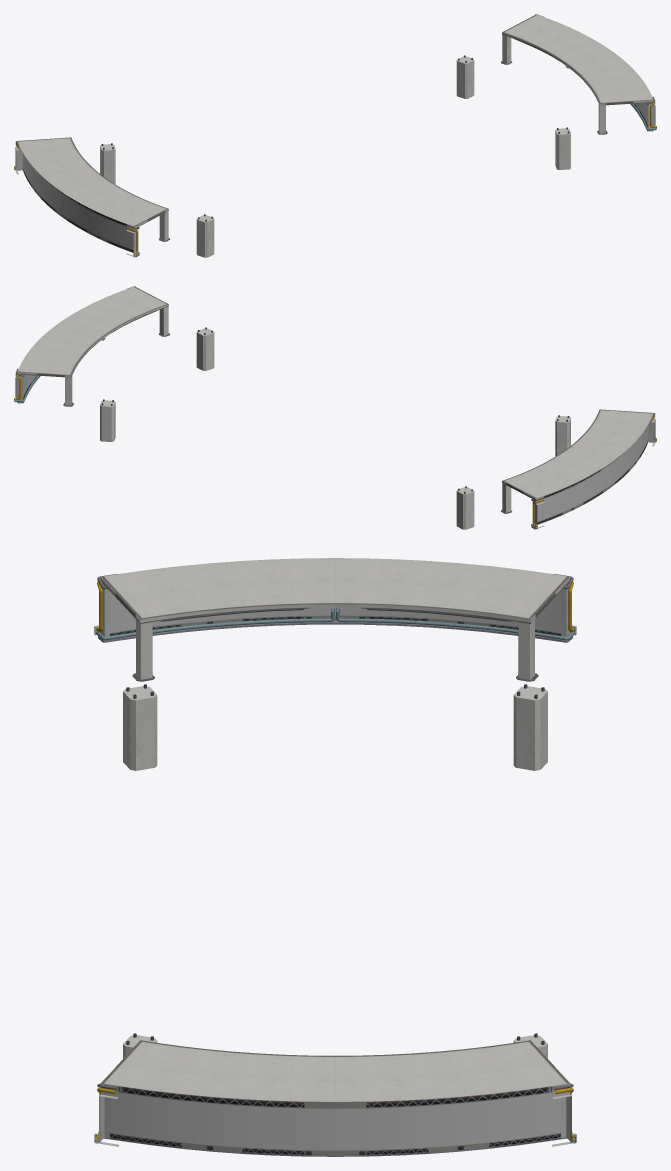
Rendered from GardenUpperLevel.dae.
3 views of the same model, one above another, from view 1: azimuth 30°, elevation 25°; view 2: azimuth 150°, elevation 25°; view 3: azimuth 270°, elevation 25° (orthographic). The views are drawn at different scales.
Visible parts, largest first — view 1: GardenUpperLevel; view 2: GardenUpperLevel; view 3: GardenUpperLevel.
Part boxes in pixels (left/top/right/bottom): GardenUpperLevel: left=14, top=14, right=656, bottom=257; GardenUpperLevel: left=14, top=286, right=656, bottom=529; GardenUpperLevel: left=94, top=558, right=576, bottom=1156.
Bounding box in the file's own units: 195 × 73.17 × 18.12.
